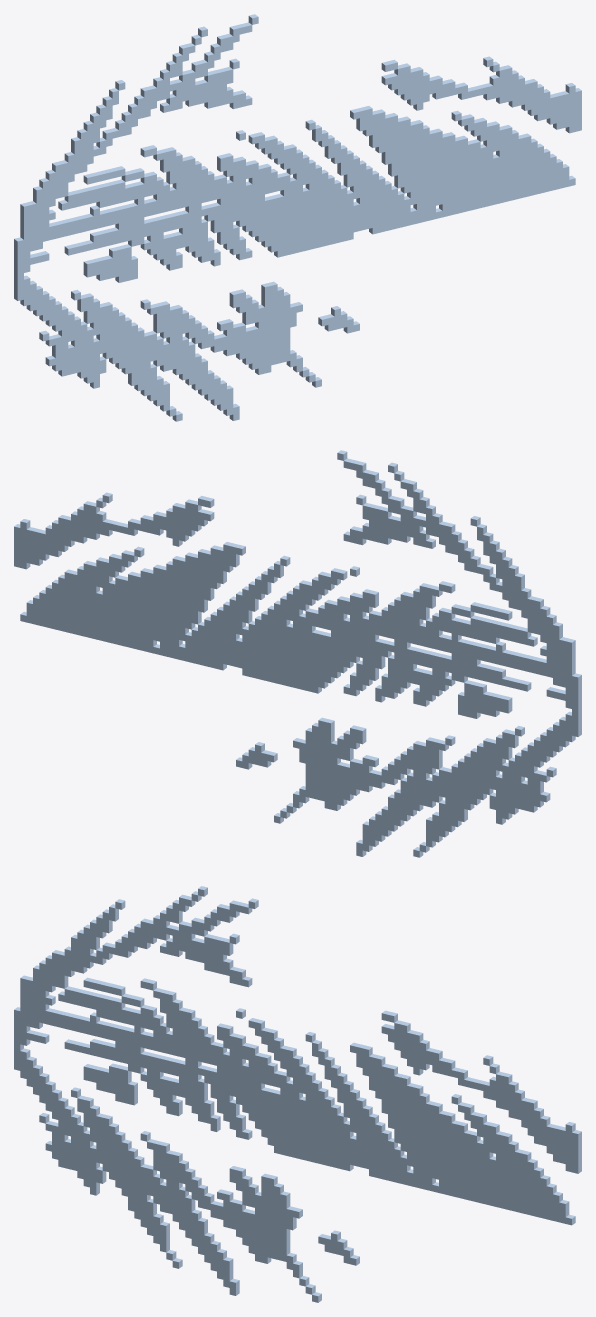
Rendered from Fight_209_2_19_fx.obj.
3 renders of one model, top to bottom at view 1: azimuth 30°, elevation 25°; view 2: azimuth 150°, elevation 25°; view 3: azimuth 330°, elevation 25°, orthographic.
Size of the model in its own units: 8.9 by 6 by 0.1.
Materials: 1 (1 with a texture image).
